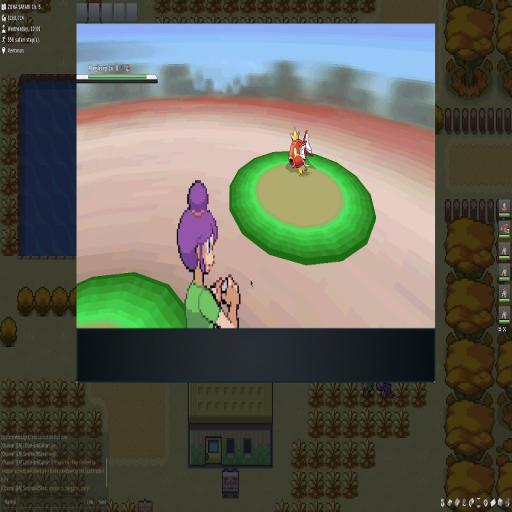MAGIKARP: (286, 126, 313, 178)
